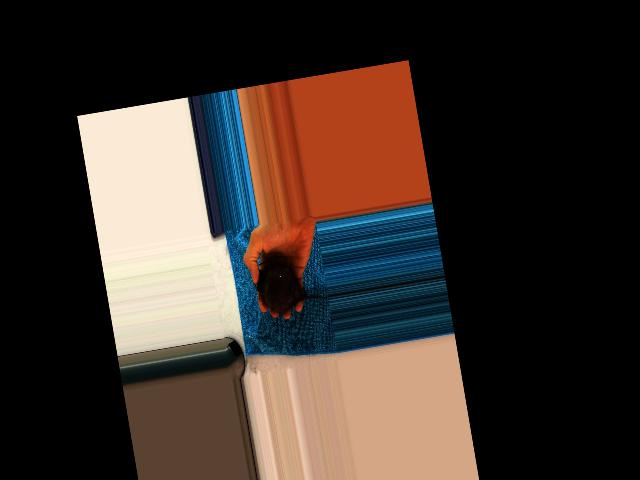beet: (249, 249, 330, 316)
